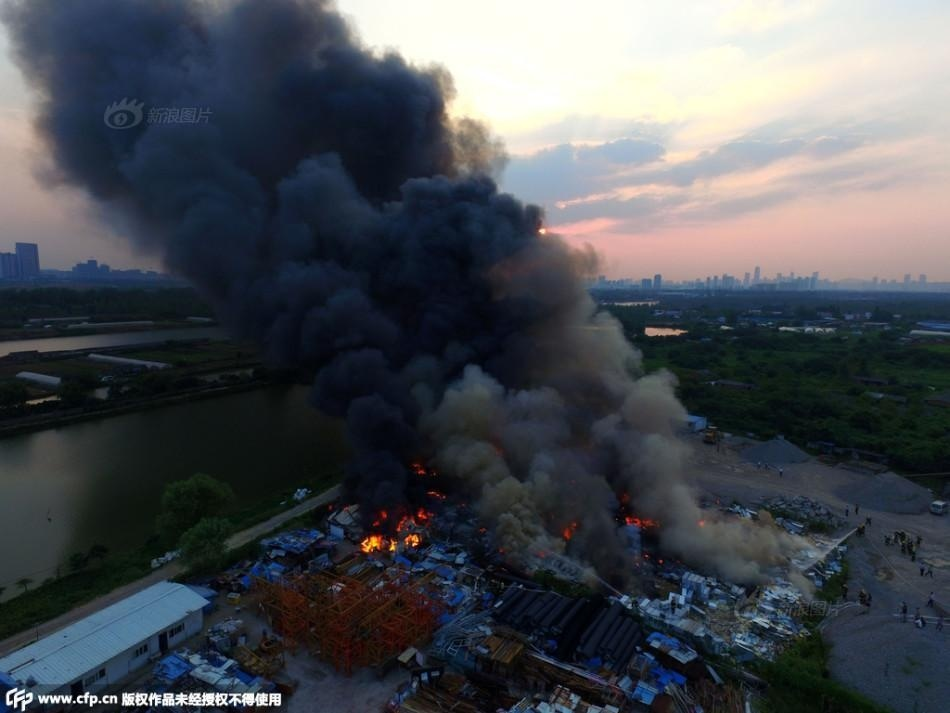fire: (359, 488, 435, 556), (622, 510, 656, 529), (559, 521, 576, 538)
